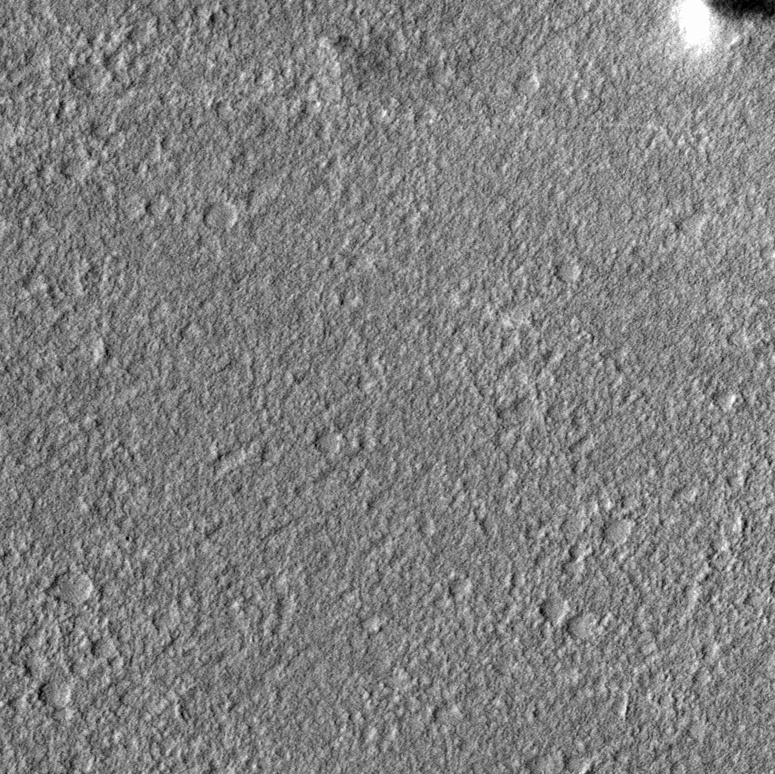dust_devil: (664, 1, 775, 60)
